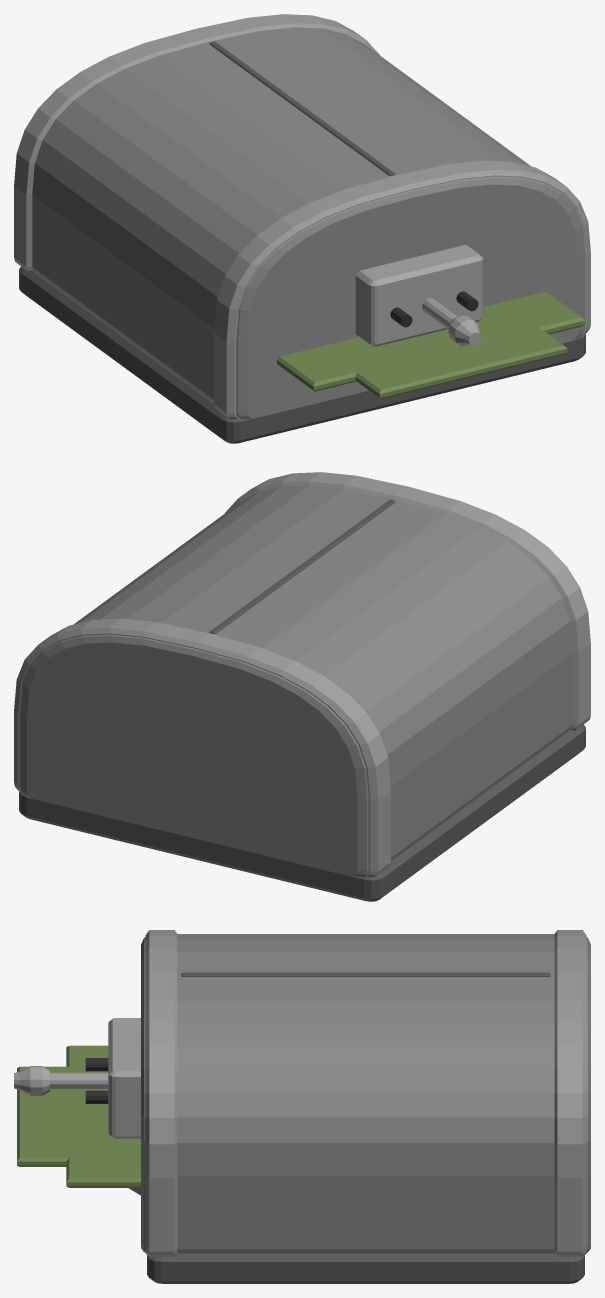
The model's file is paste_dispenser.obj.
3 renders of one model, top to bottom at view 1: azimuth 30°, elevation 25°; view 2: azimuth 150°, elevation 25°; view 3: azimuth 270°, elevation 25°, orthographic.
Visible parts, largest first — view 1: paste_dispenser_1, paste_dispenser_5, paste_dispenser_0, paste_dispenser_3, paste_dispenser_8, paste_dispenser_2, paste_dispenser_4, paste_dispenser_10; view 2: paste_dispenser_1, paste_dispenser_0, paste_dispenser_2, paste_dispenser_3, paste_dispenser_4; view 3: paste_dispenser_1, paste_dispenser_0, paste_dispenser_2, paste_dispenser_3, paste_dispenser_5, paste_dispenser_8, paste_dispenser_4, paste_dispenser_9, paste_dispenser_10.
Part boxes in pixels (left/top/right/bottom): paste_dispenser_1: left=32, top=27, right=584, bottom=419; paste_dispenser_5: left=277, top=291, right=585, bottom=398; paste_dispenser_0: left=19, top=266, right=585, bottom=443; paste_dispenser_3: left=214, top=160, right=590, bottom=419; paste_dispenser_8: left=355, top=245, right=483, bottom=346; paste_dispenser_2: left=14, top=14, right=380, bottom=272; paste_dispenser_4: left=209, top=41, right=395, bottom=175; paste_dispenser_10: left=448, top=315, right=481, bottom=346; paste_dispenser_1: left=20, top=485, right=572, bottom=877; paste_dispenser_0: left=19, top=724, right=585, bottom=901; paste_dispenser_2: left=14, top=618, right=390, bottom=877; paste_dispenser_3: left=224, top=472, right=590, bottom=730; paste_dispenser_4: left=209, top=499, right=395, bottom=633; paste_dispenser_1: left=141, top=934, right=590, bottom=1253; paste_dispenser_0: left=147, top=1253, right=584, bottom=1283; paste_dispenser_2: left=554, top=930, right=586, bottom=1256; paste_dispenser_3: left=145, top=930, right=177, bottom=1256; paste_dispenser_5: left=17, top=1045, right=140, bottom=1187; paste_dispenser_8: left=108, top=1018, right=140, bottom=1138; paste_dispenser_4: left=181, top=972, right=550, bottom=976; paste_dispenser_9: left=50, top=1072, right=108, bottom=1088; paste_dispenser_10: left=14, top=1066, right=49, bottom=1095.
Size of the model in its own units: 2.87 by 1.65 by 3.86.
